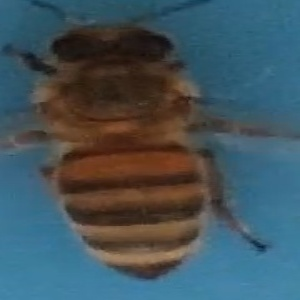bee: (8, 11, 287, 287)
